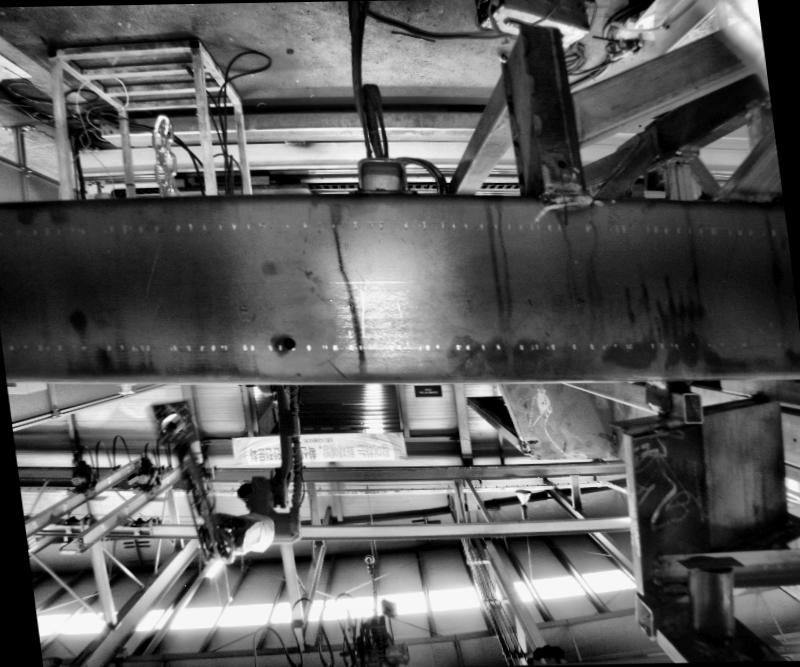bracket: (341, 157, 420, 201)
hole: (282, 338, 294, 350), (554, 159, 564, 168)
welding: (538, 185, 587, 206)
